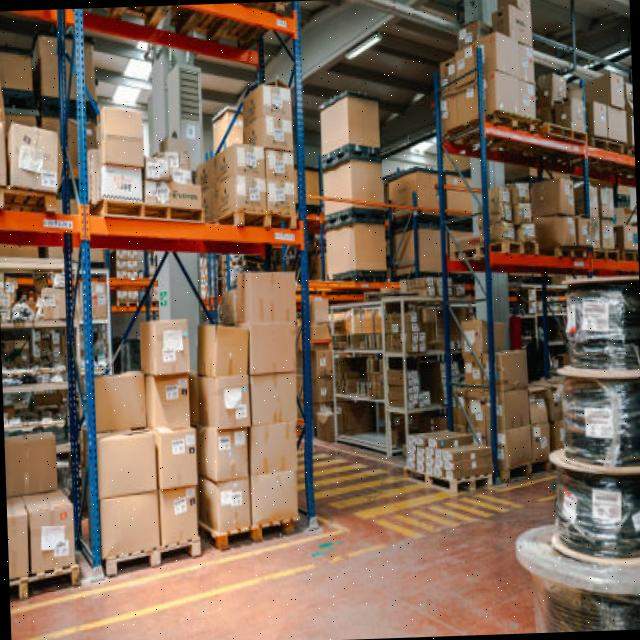Wooden-Pallets: (94, 190, 217, 243), (104, 535, 200, 579), (213, 514, 306, 553), (232, 207, 299, 233)
